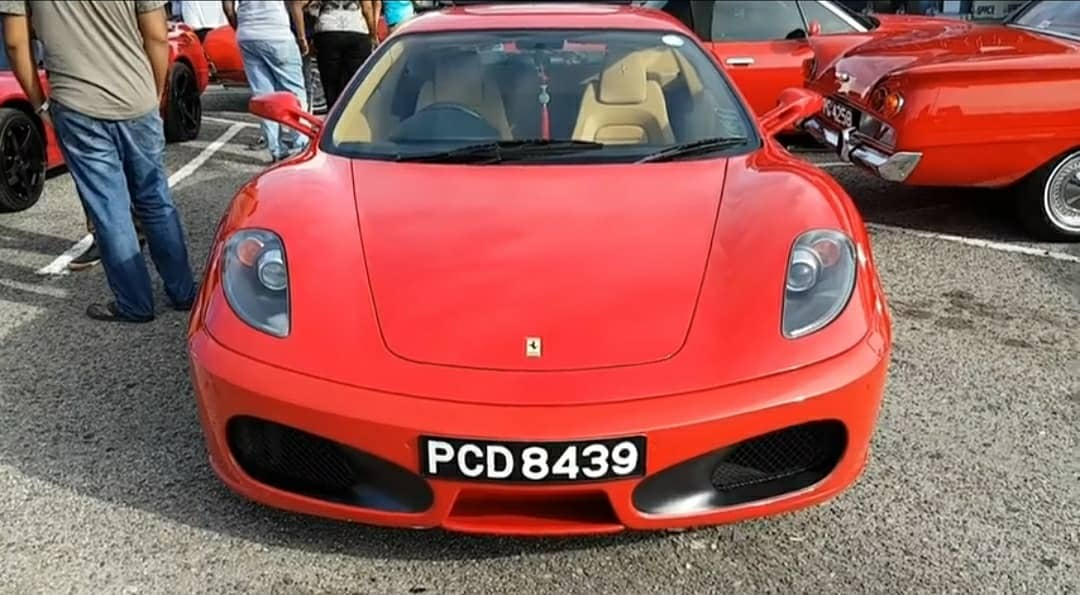License-Plate: (422, 437, 643, 480)
